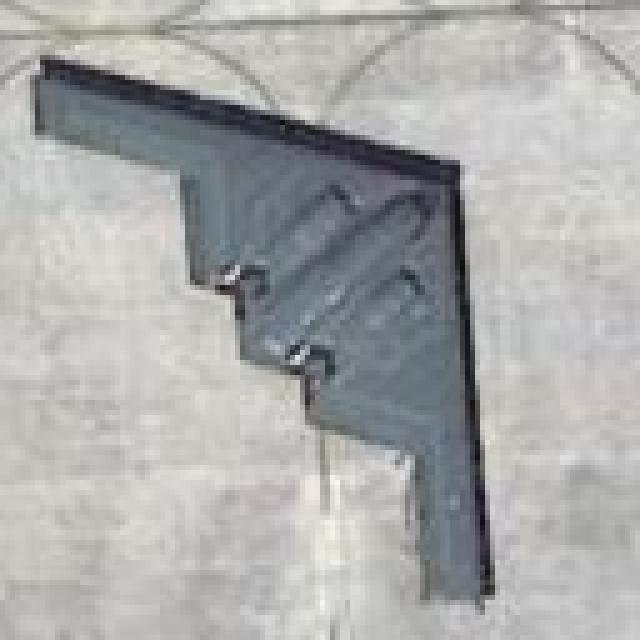B-2_TopDown: (25, 45, 500, 610)
